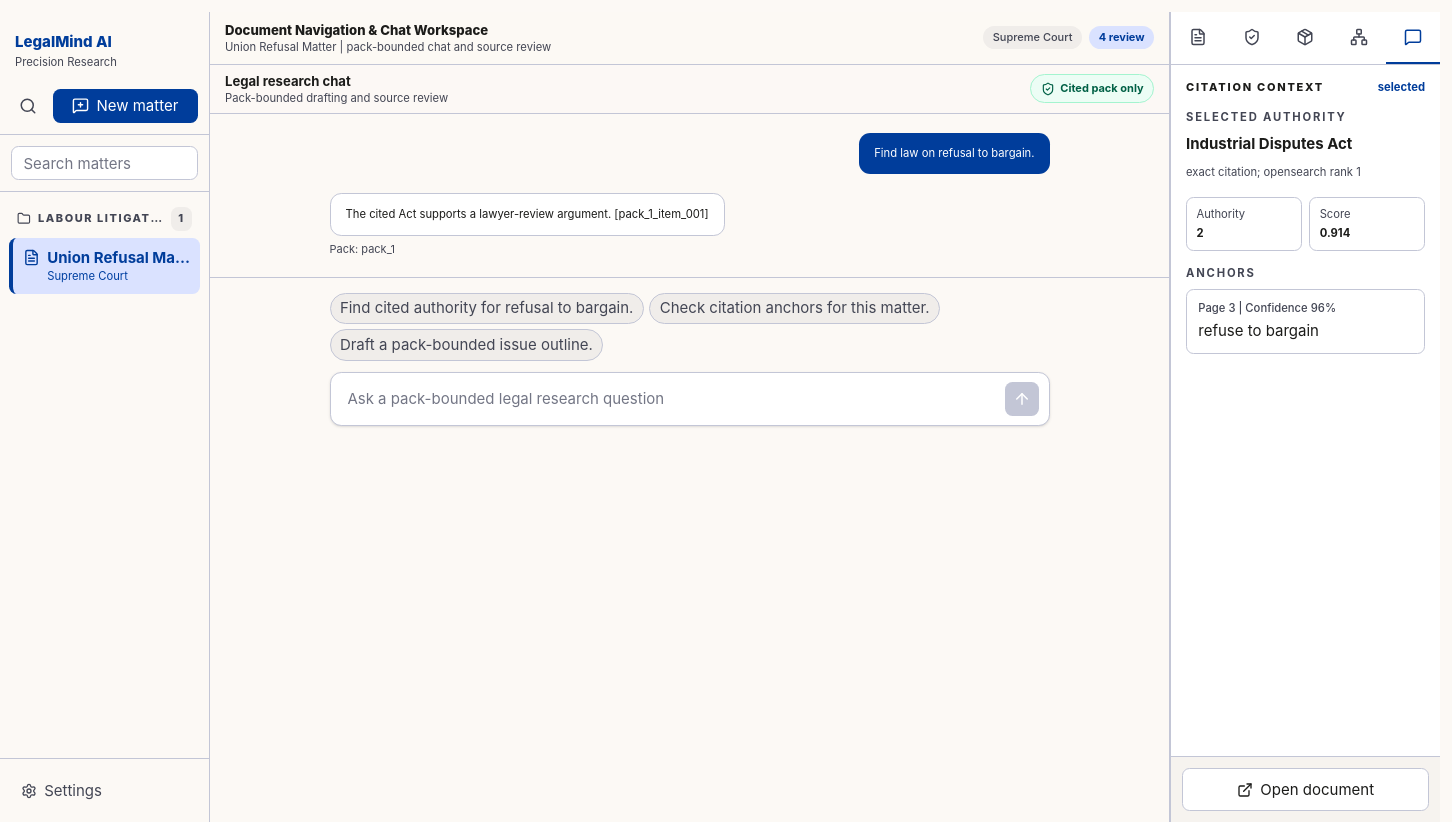
CaseWorkspace › opens the source document when a citation anchor is selected
The width and height of the screenshot is (1452, 822).
Click the button "Page 3 | Confidence 96% refuse to bargain" at (1306, 321), box [1186, 289, 1425, 354]
(page scrolled)
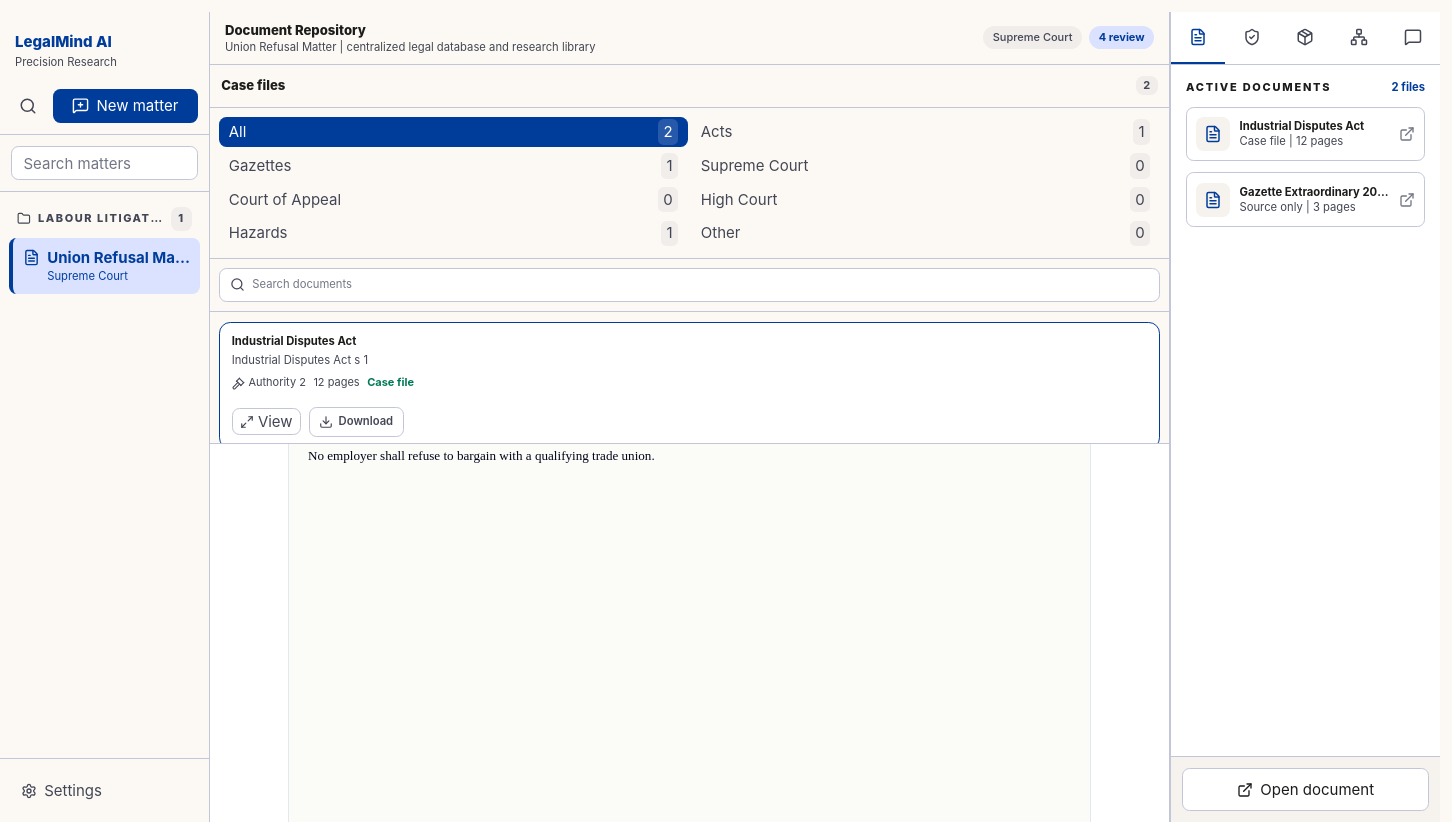
Expected: the text "No employer shall refuse to bargain with a qualifying trade union." is shown, [288, 444, 1091, 821]
